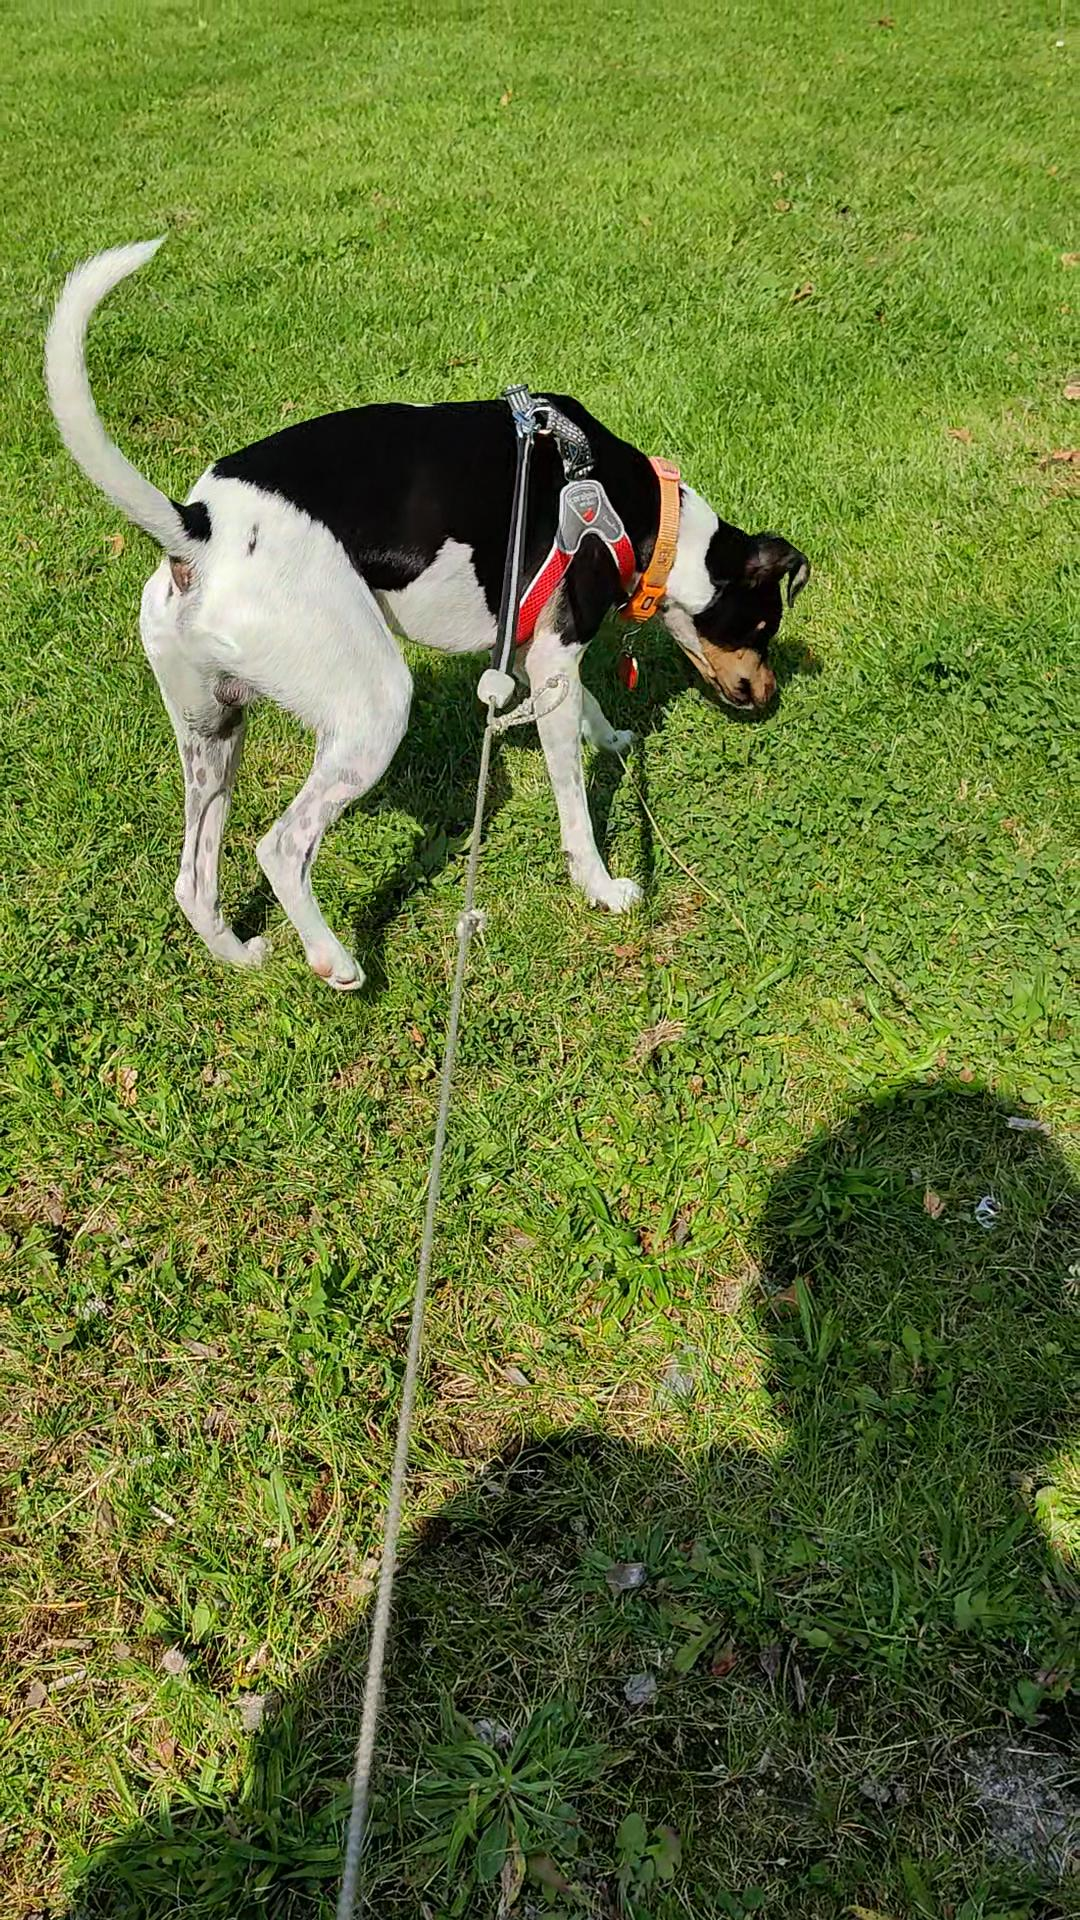Dog: (40, 227, 823, 996)
